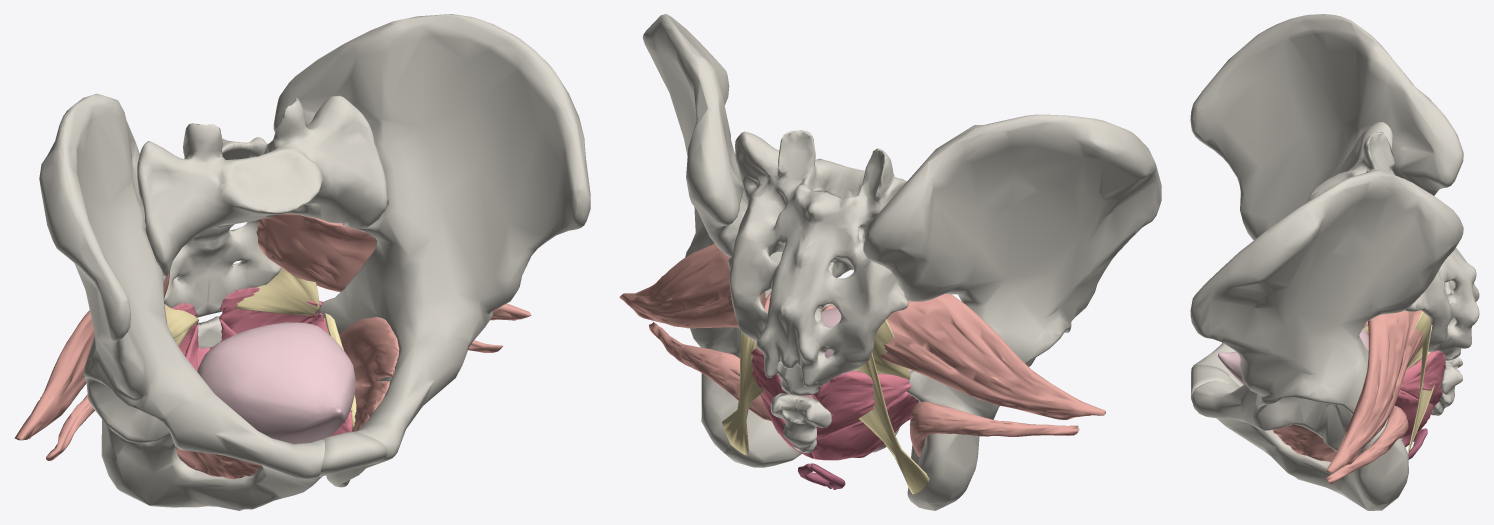
File: pelvis.glb
The picture shows the model from 3 angles, left to right: view 1: azimuth 30°, elevation 25°; view 2: azimuth 150°, elevation 25°; view 3: azimuth 270°, elevation 25°; orthographic projection. The views are drawn at different scales.
Visible parts, largest first — view 1: hip_l, hip_r, sacrum, bladder, piri_l, obt_l, piri_r, obt_r, sspin_l, symphysis, coccyg_l, sspin_r (+1 smaller); view 2: hip_r, sacrum, hip_l, piri_r, piri_l, obt_r, coccyg_r, obt_l, ilioco_r, coccyx, stub_r, stub_l (+2 smaller); view 3: hip_l, hip_r, sacrum, piri_l, obt_l, coccyg_l, coccyx, stub_l, ilioco_l, symphysis, bladder, sspin_l.
Part boxes in pixels (<box>): hip_l: <box>273,14,590,487</box>; hip_r: <box>39,93,324,510</box>; sacrum: <box>137,95,387,317</box>; bladder: <box>197,322,355,443</box>; piri_l: <box>256,213,531,320</box>; obt_l: <box>339,317,502,431</box>; piri_r: <box>14,271,169,440</box>; obt_r: <box>46,393,261,479</box>; sspin_l: <box>234,268,319,315</box>; symphysis: <box>319,431,387,476</box>; coccyg_l: <box>219,287,322,333</box>; sspin_r: <box>164,305,198,338</box>; hip_r: <box>863,114,1161,510</box>; sacrum: <box>727,130,908,395</box>; hip_l: <box>642,14,835,467</box>; piri_r: <box>880,294,1105,419</box>; piri_l: <box>619,243,765,328</box>; obt_r: <box>909,401,1079,456</box>; coccyg_r: <box>812,370,911,440</box>; obt_l: <box>649,292,835,421</box>; ilioco_r: <box>812,391,918,460</box>; coccyx: <box>770,393,831,453</box>; stub_r: <box>853,352,929,494</box>; stub_l: <box>722,330,765,455</box>; hip_l: <box>1190,169,1463,510</box>; hip_r: <box>1190,14,1463,387</box>; sacrum: <box>1306,122,1479,360</box>; piri_l: <box>1326,310,1427,472</box>; obt_l: <box>1272,405,1408,484</box>; coccyg_l: <box>1400,350,1445,407</box>; coccyx: <box>1431,357,1462,415</box>; stub_l: <box>1407,324,1434,454</box>; ilioco_l: <box>1394,390,1432,438</box>; symphysis: <box>1191,365,1238,402</box>; bladder: <box>1218,328,1368,384</box>; sspin_l: <box>1406,311,1430,369</box>.
Size of the model in its own units: 0.2698 by 0.2146 by 0.1511.
